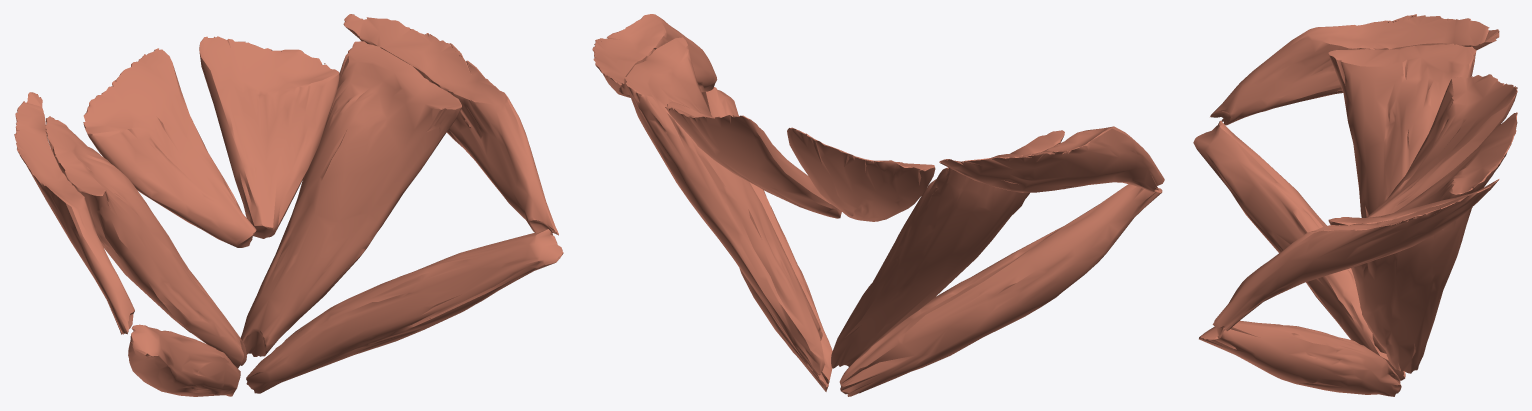
The model's file is suboccipital-muscles.glb.
The picture shows the model from 3 angles, left to right: view 1: azimuth 30°, elevation 25°; view 2: azimuth 150°, elevation 25°; view 3: azimuth 270°, elevation 25°; orthographic projection. The views are drawn at different scales.
Visible parts, largest first — view 1: grp1; view 2: grp1; view 3: grp1.
Boxes of the visible parts, x1,y1,x2,y2 form: grp1: (14, 14, 563, 396); grp1: (592, 14, 1164, 396); grp1: (1193, 14, 1517, 396).
Size of the model in its own units: 0.0858 by 0.0563 by 0.0568.
